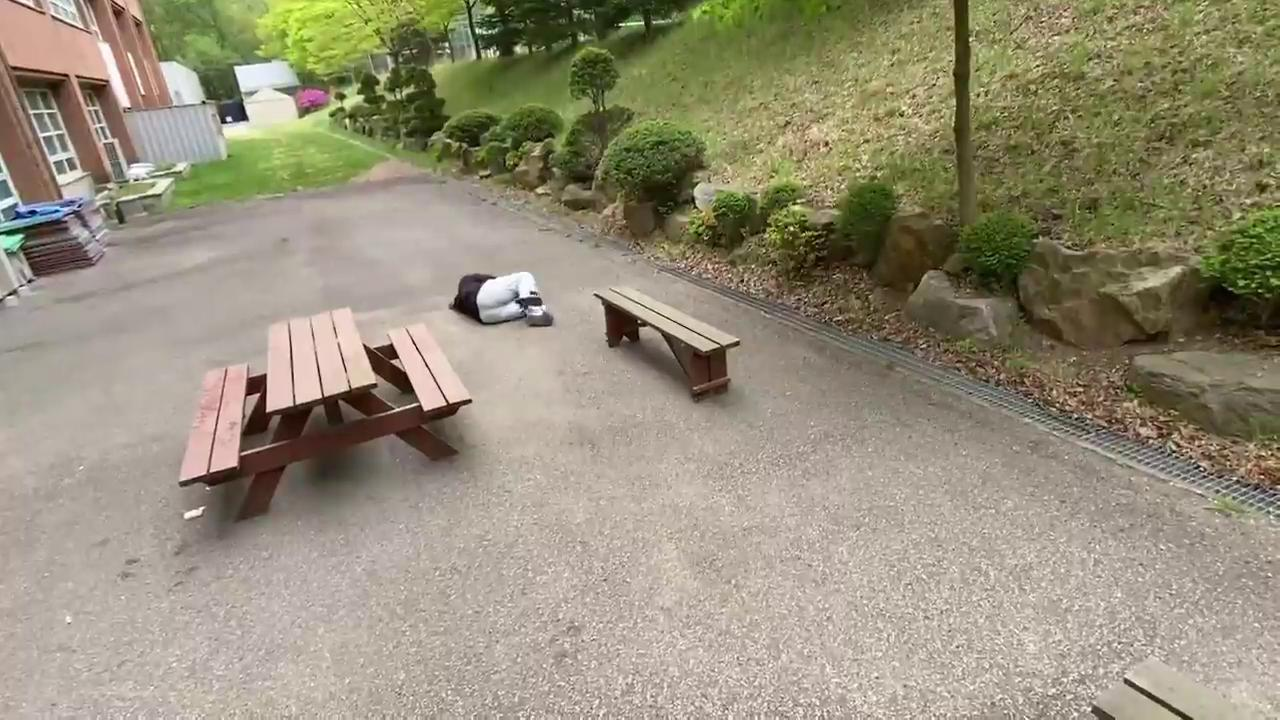faint: (447, 271, 557, 330)
